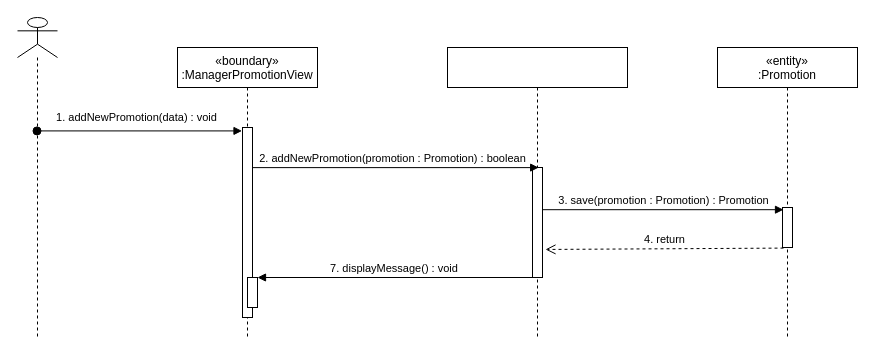
Some shapes in this 875 by 355 pixel diagram are drawn without their labels. The shapes that lost their labels are listed below. From the top down, each one's box as (x1, y1, x2, y2) in pixels, then its label:
(16, 16, 58, 338): Quản trị viên
(446, 46, 628, 338): «controller» : ManagerPromotionController
